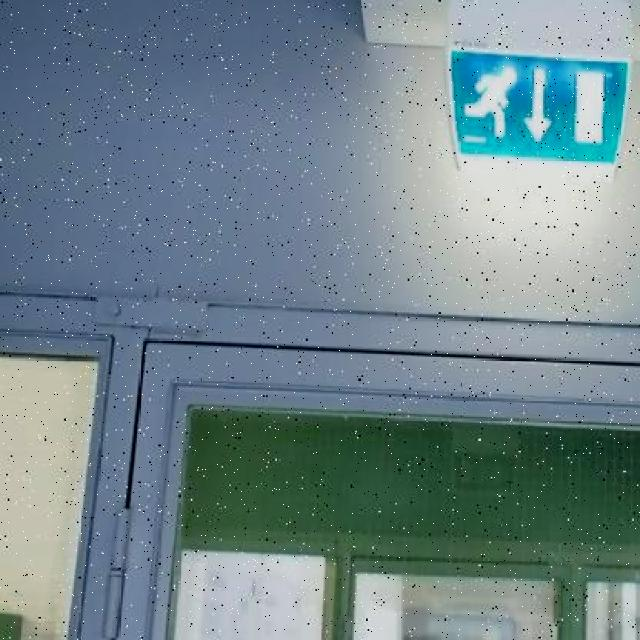emergency_exit: (447, 47, 631, 167)
